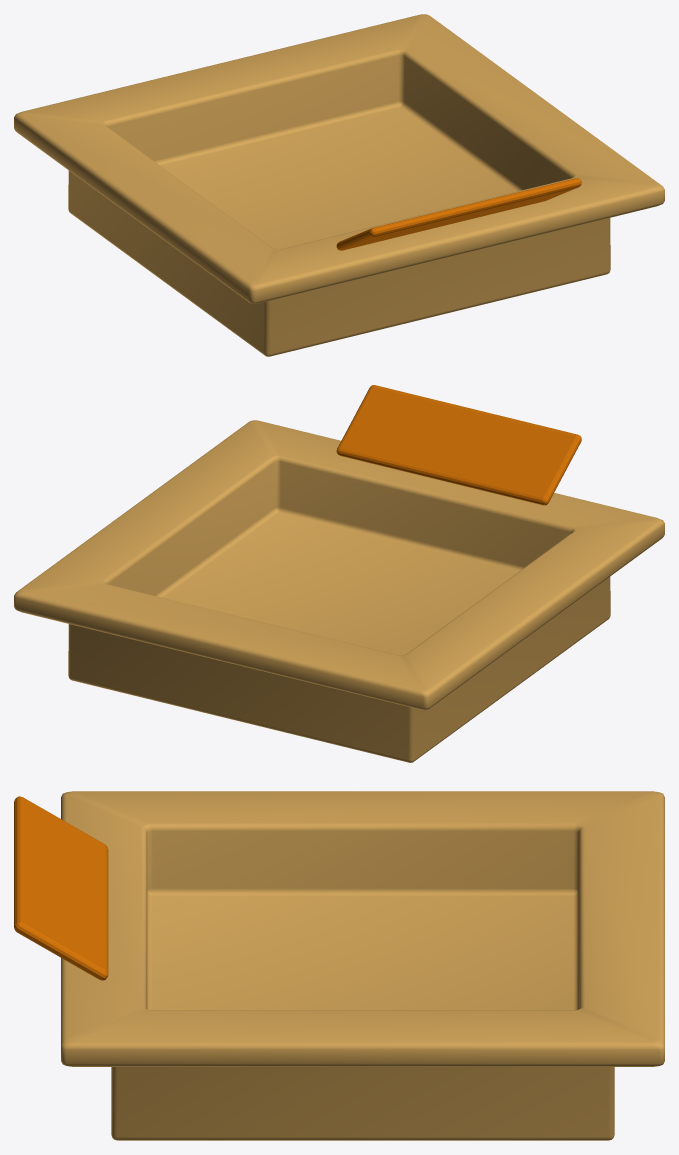
File: caixa laranja.fbx
3 renders of one model, top to bottom at view 1: azimuth 30°, elevation 25°; view 2: azimuth 150°, elevation 25°; view 3: azimuth 270°, elevation 25°, orthographic. The views are drawn at different scales.
Parts seen in each view (by area): view 1: Cube.011; view 2: Cube.011; view 3: Cube.011.
Part boxes in pixels (bbox=[...]): Cube.011: bbox=[14, 14, 664, 356]; Cube.011: bbox=[14, 385, 664, 762]; Cube.011: bbox=[14, 791, 664, 1140].
Size of the model in its own units: 1.47 by 0.4735 by 1.58.
